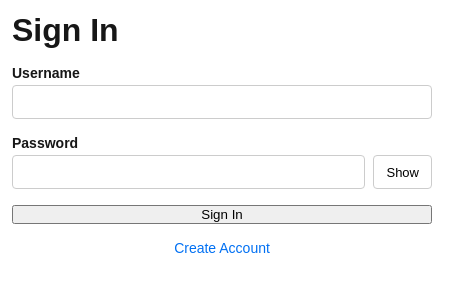
Test: AuthForm - sign in mode › shows a form-level error message on invalid credentials
This screenshot has width=449, height=301.
Type "janedoe1" into the field labelled "Username".
click(222, 102); type("janedoe1")  # box [12, 85, 432, 119]
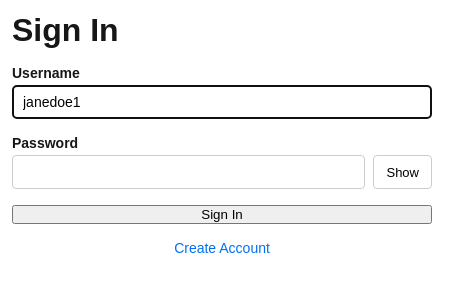
Type "wrong-password" into the password field labelled "Password".
click(189, 172); type("wrong-password")  # box [12, 155, 366, 189]
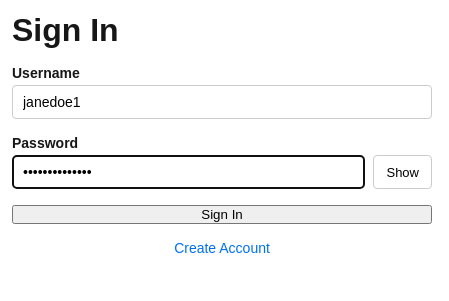
Click the button "Sign In".
click(222, 214)  # box [12, 205, 432, 224]
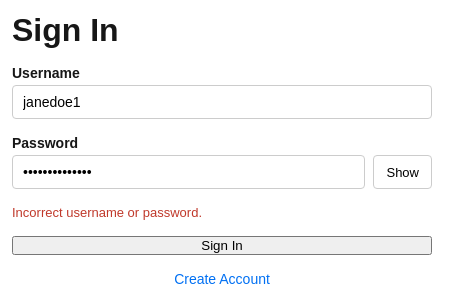
Now the text "Incorrect username or password." is shown, box [12, 205, 202, 220]
